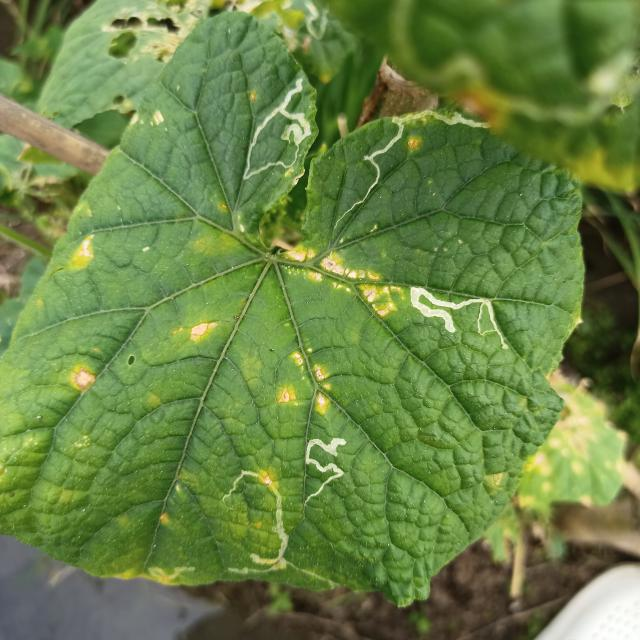disease_cucumber: (280, 242, 404, 319), (276, 347, 330, 416), (68, 234, 98, 272), (181, 319, 220, 345), (130, 105, 174, 128), (70, 366, 104, 395), (407, 136, 428, 156)
